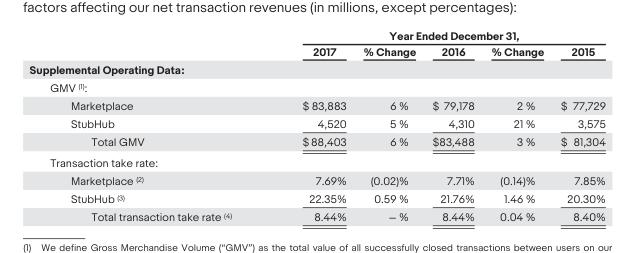table: (28, 29, 604, 222)
table column: (28, 29, 266, 222), (266, 29, 354, 222), (354, 29, 423, 222), (482, 29, 551, 222), (423, 29, 482, 222), (551, 29, 604, 222)
table column header: (28, 29, 604, 59)
table projected row header: (28, 151, 604, 170), (28, 59, 604, 77), (28, 77, 604, 95)
table row: (28, 113, 604, 132), (28, 132, 604, 151), (28, 151, 604, 170), (28, 59, 604, 77), (28, 77, 604, 95), (28, 95, 604, 113), (28, 170, 604, 188), (28, 188, 604, 206), (28, 42, 604, 59), (28, 206, 604, 222), (28, 29, 604, 42)
table spanning cell: (266, 29, 604, 42)
